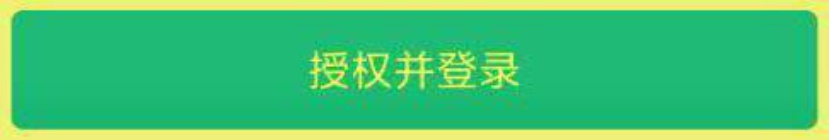Button: (1, 1, 828, 139)
